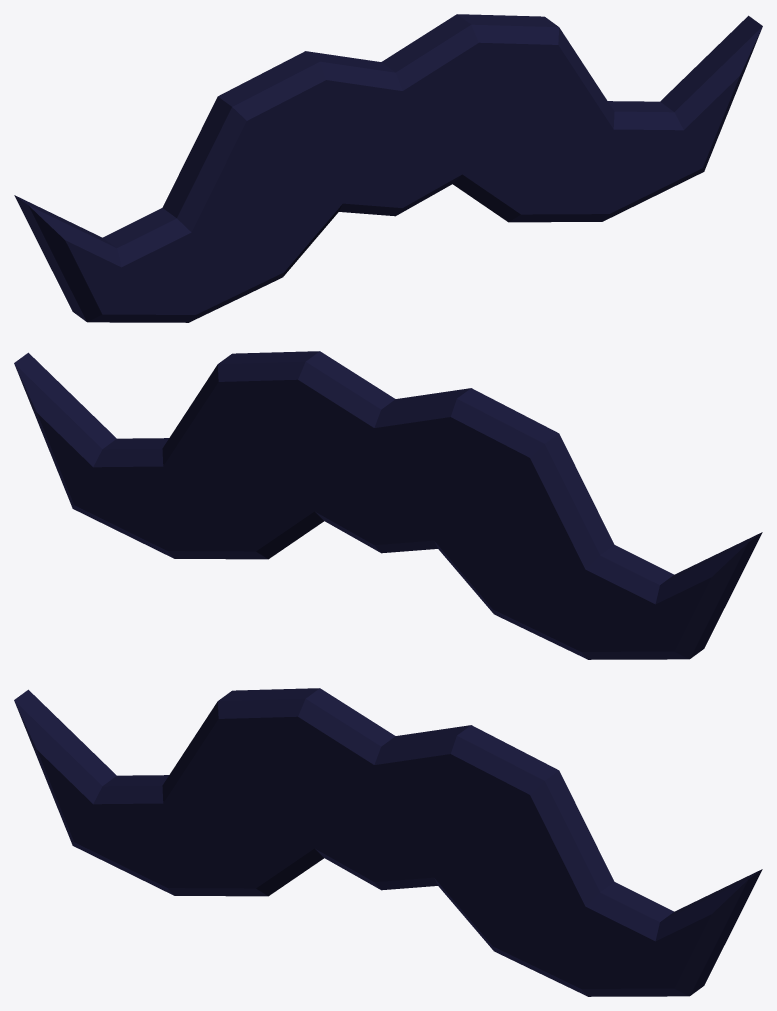
The model's file is ac_hige.fbx.
The picture shows the model from 3 angles, top to bottom: view 1: azimuth 30°, elevation 25°; view 2: azimuth 150°, elevation 25°; view 3: azimuth 330°, elevation 25°; orthographic projection.
Visible parts, largest first — view 1: hige; view 2: hige; view 3: hige.
Boxes of the visible parts, box(x1,y1,x2,y2) form: hige: box(14, 14, 762, 322); hige: box(14, 351, 762, 659); hige: box(14, 688, 762, 996).
Size of the model in its own units: 300 by 89.38 by 20.
